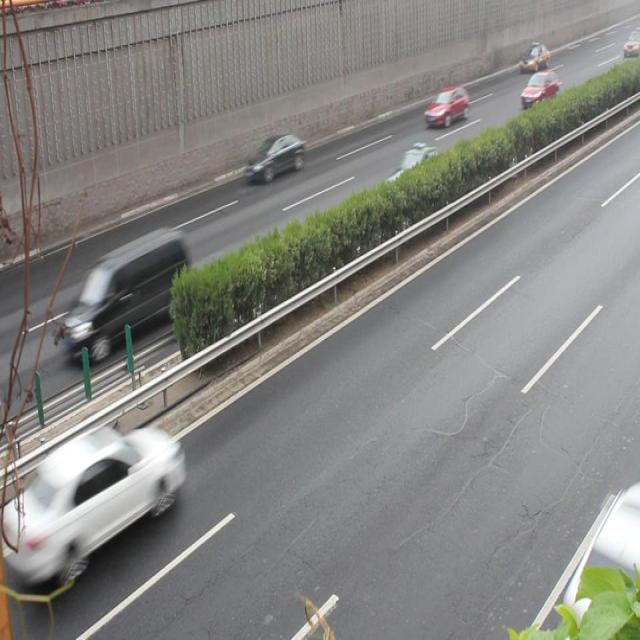car: (32, 428, 182, 559), (381, 147, 443, 205), (244, 132, 304, 187), (422, 87, 467, 129), (520, 71, 557, 112)
truck: (63, 228, 187, 357)
